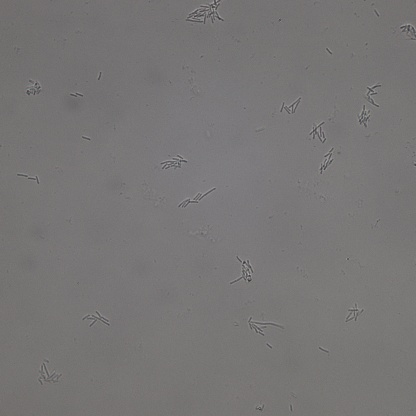R(colony): (186, 1, 224, 24), (177, 187, 214, 209), (247, 317, 286, 337), (230, 256, 254, 285), (38, 358, 62, 386), (161, 155, 187, 172), (82, 311, 111, 326), (319, 147, 335, 174), (309, 121, 327, 144), (364, 84, 381, 107), (357, 104, 372, 130), (345, 302, 364, 322), (279, 98, 301, 114), (400, 24, 416, 43), (25, 80, 42, 97)
